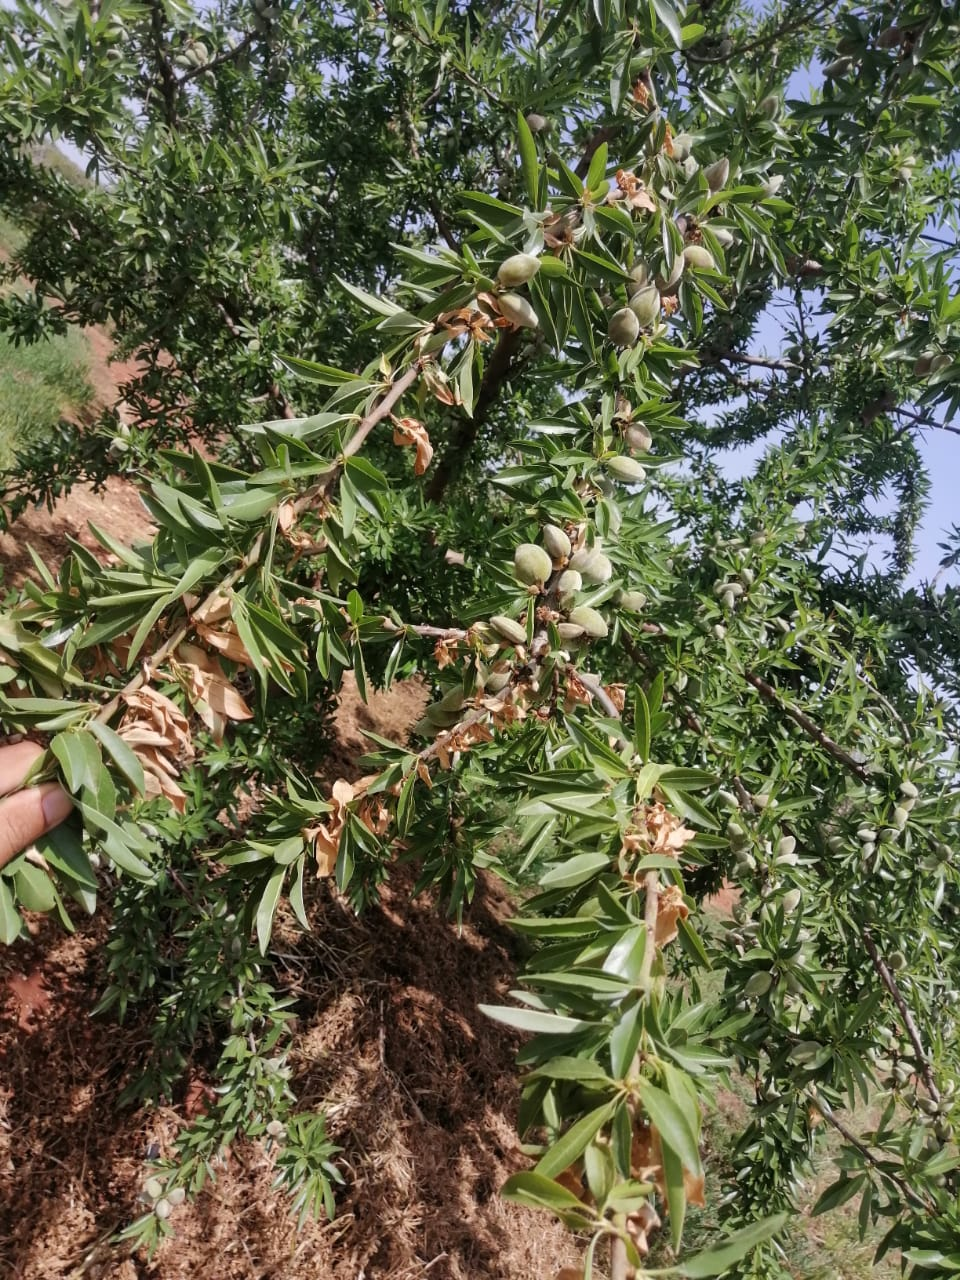scolytes: (84, 168, 651, 804), (301, 272, 679, 875), (613, 792, 692, 952)
